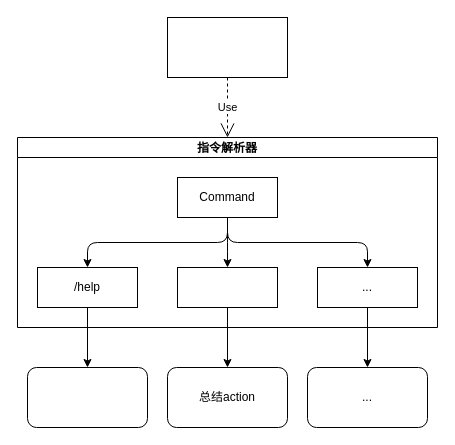
Some shapes in this 455 by 445 pixel diagram are drawn without their labels. Here are the shapes that lost their labels. From the top down, the box of each, then its label:
(166, 16, 288, 78): 执行器
(176, 266, 278, 308): /summary
(26, 366, 148, 428): 帮助action
